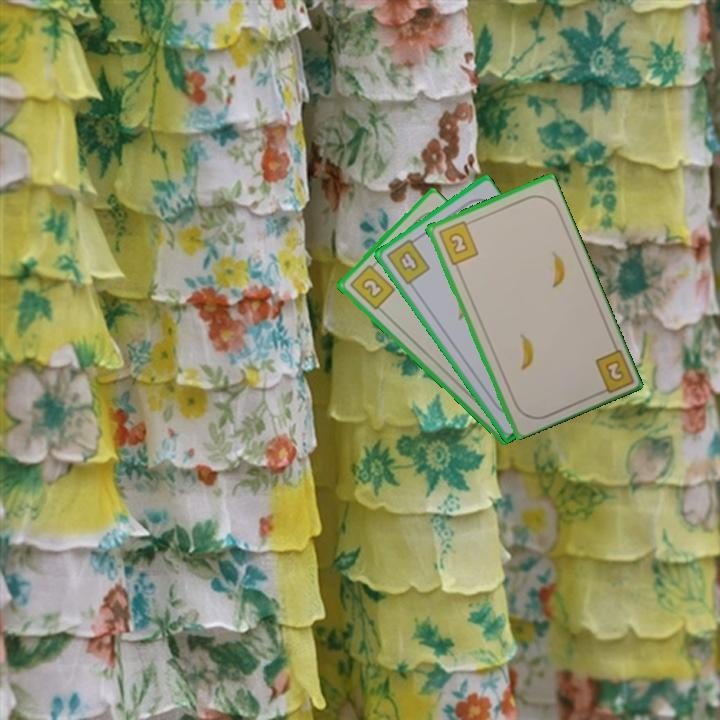2b: (346, 258, 397, 313), (434, 217, 481, 268), (591, 345, 635, 398)
4b: (383, 233, 433, 288)
